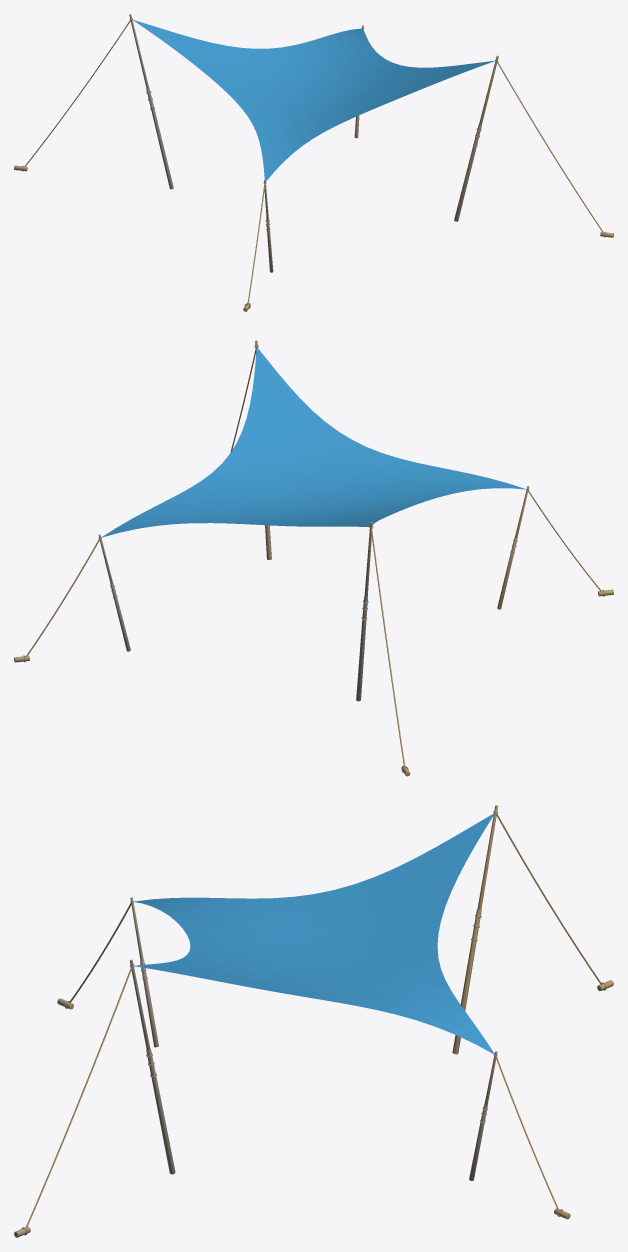
Rendered from nomad_sail_quad_large.fbx.
3 renders of one model, top to bottom at view 1: azimuth 30°, elevation 25°; view 2: azimuth 150°, elevation 25°; view 3: azimuth 270°, elevation 25°, orthographic. The views are drawn at different scales.
Visible parts, largest first — view 1: S02_Canopy, S02_Mast3_SailRig_MastLashed, S02_Mast1_SailRig_MastLashed; view 2: S02_Canopy, S02_Mast3_SailRig_MastLashed; view 3: S02_Canopy, S02_Mast1_SailRig_MastLashed, S02_Mast3_SailRig_MastLashed, S02_Mast_SailRig_MastLashed, S02_Guy1, S02_Mast2_SailRig_MastLashed.
Part boxes in pixels (x1,y1,x2,y2): S02_Canopy: (133, 20, 494, 181); S02_Mast3_SailRig_MastLashed: (129, 14, 173, 189); S02_Mast1_SailRig_MastLashed: (454, 55, 498, 221); S02_Canopy: (102, 347, 525, 537); S02_Mast3_SailRig_MastLashed: (356, 521, 373, 701); S02_Canopy: (134, 813, 494, 1053); S02_Mast1_SailRig_MastLashed: (129, 959, 175, 1174); S02_Mast3_SailRig_MastLashed: (452, 805, 498, 1054); S02_Mast_SailRig_MastLashed: (130, 897, 158, 1047); S02_Guy1: (25, 967, 131, 1227); S02_Mast2_SailRig_MastLashed: (469, 1051, 497, 1180).
Size of the model in its own units: 1156 by 491 by 1156.
